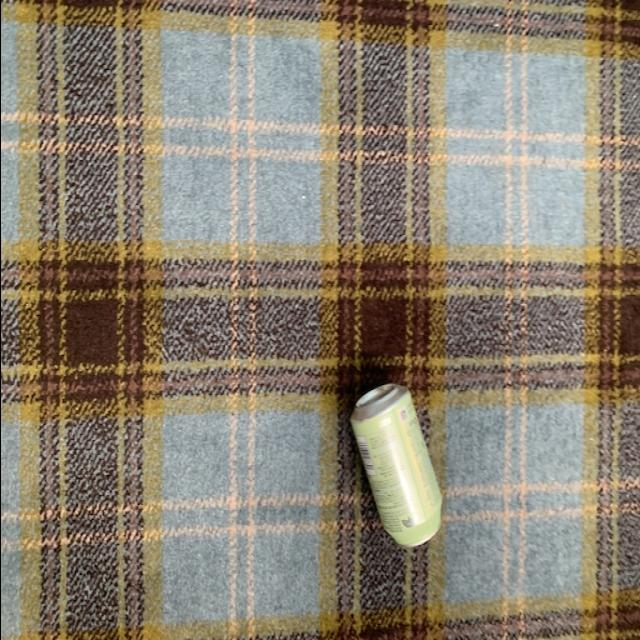litter: (345, 378, 445, 554)
